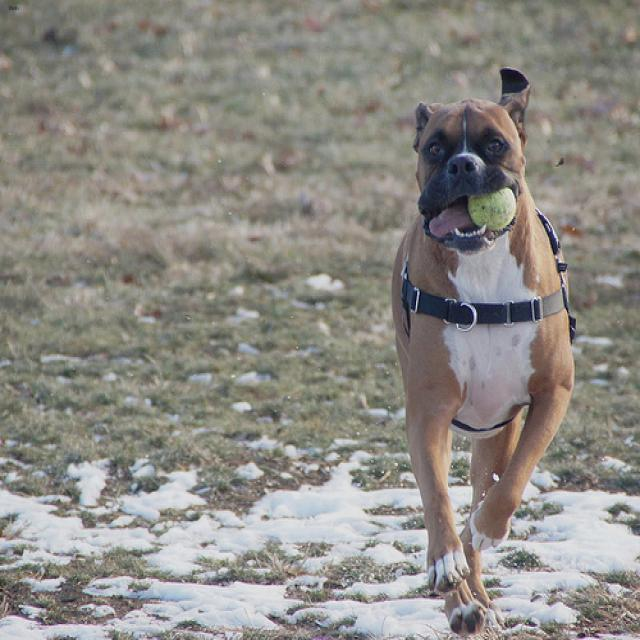dog-boxer: (381, 52, 588, 637)
